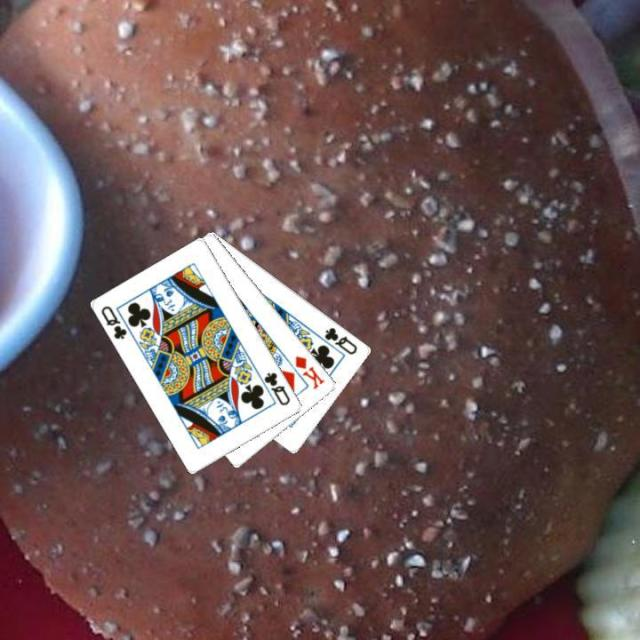KD: (292, 351, 326, 391)
QC: (260, 368, 292, 407), (97, 303, 129, 342), (321, 324, 359, 356)
